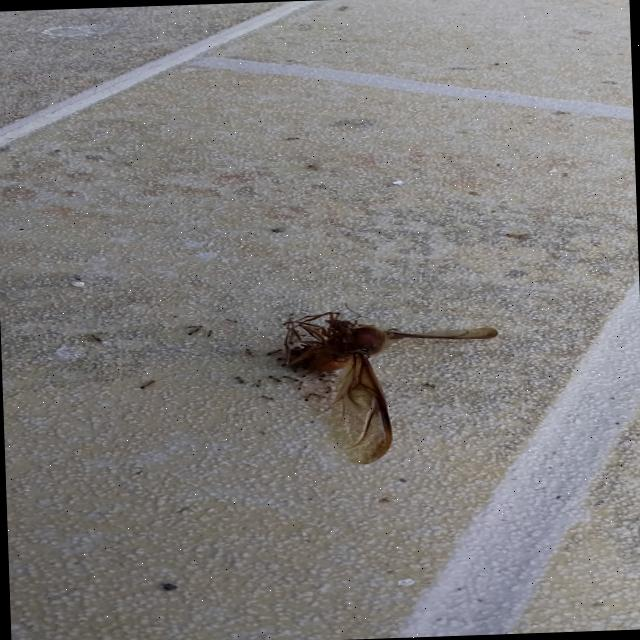Dead-Male-Alate: (267, 298, 502, 466)
